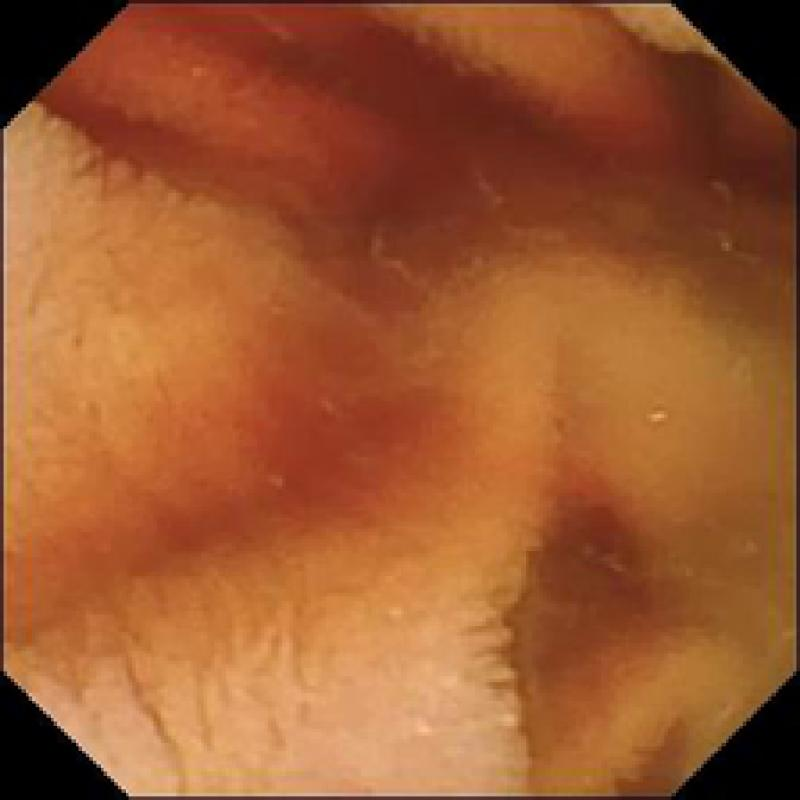bleeding: (39, 0, 800, 618)
